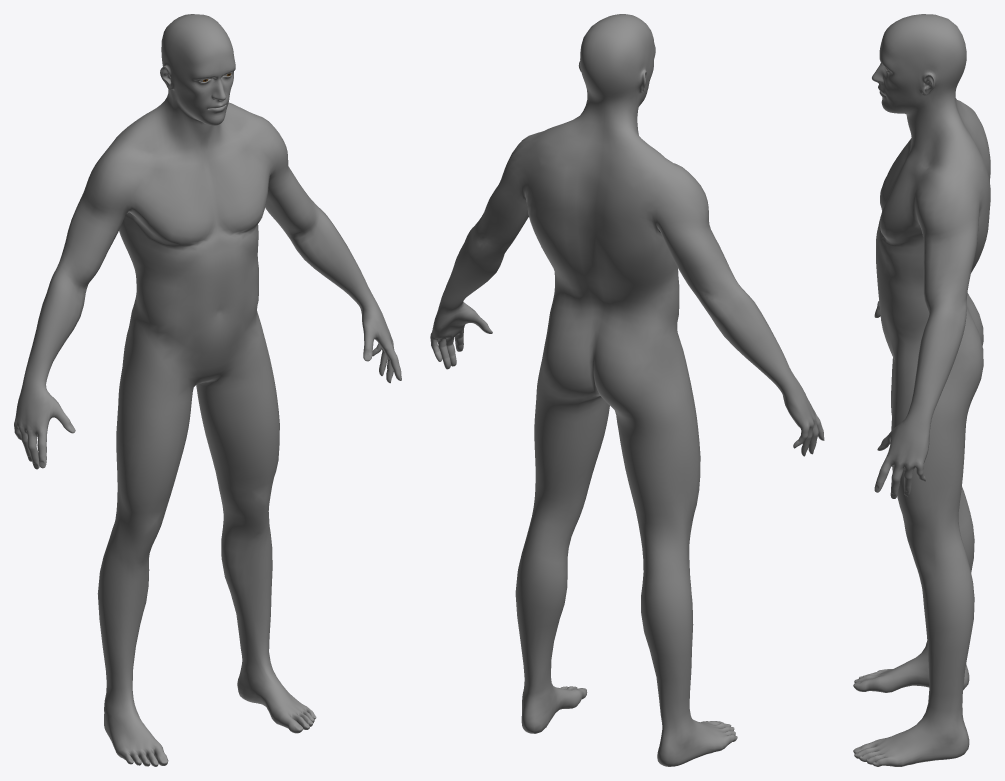
The picture shows the model from 3 angles, left to right: view 1: azimuth 30°, elevation 25°; view 2: azimuth 150°, elevation 25°; view 3: azimuth 270°, elevation 25°; orthographic projection.
Parts seen in each view (by area): view 1: male_genericMesh; view 2: male_genericMesh; view 3: male_genericMesh.
Boxes of the visible parts, <box> form: male_genericMesh: <box>14,14,401,766</box>; male_genericMesh: <box>430,14,824,766</box>; male_genericMesh: <box>853,14,990,766</box>.
Size of the model in its own units: 1023 by 1859 by 328.
Materials: 2 (1 with a texture image).
